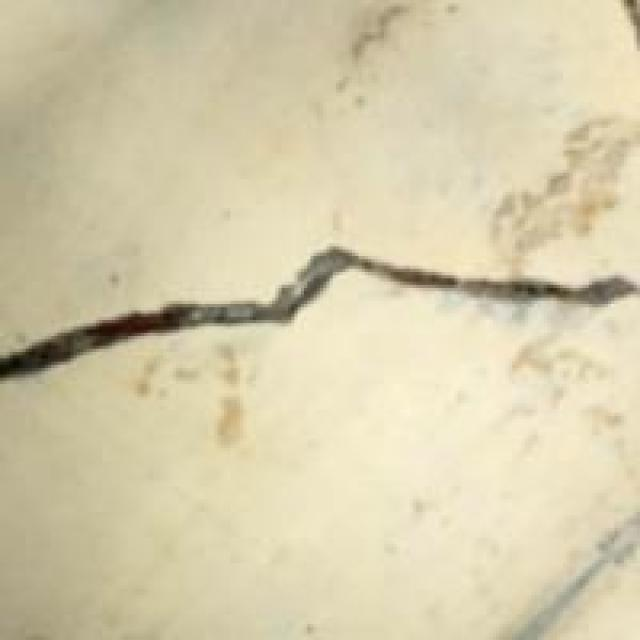crack: (0, 173, 637, 534)
